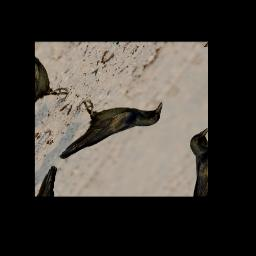Crow: (45, 73, 171, 185)
